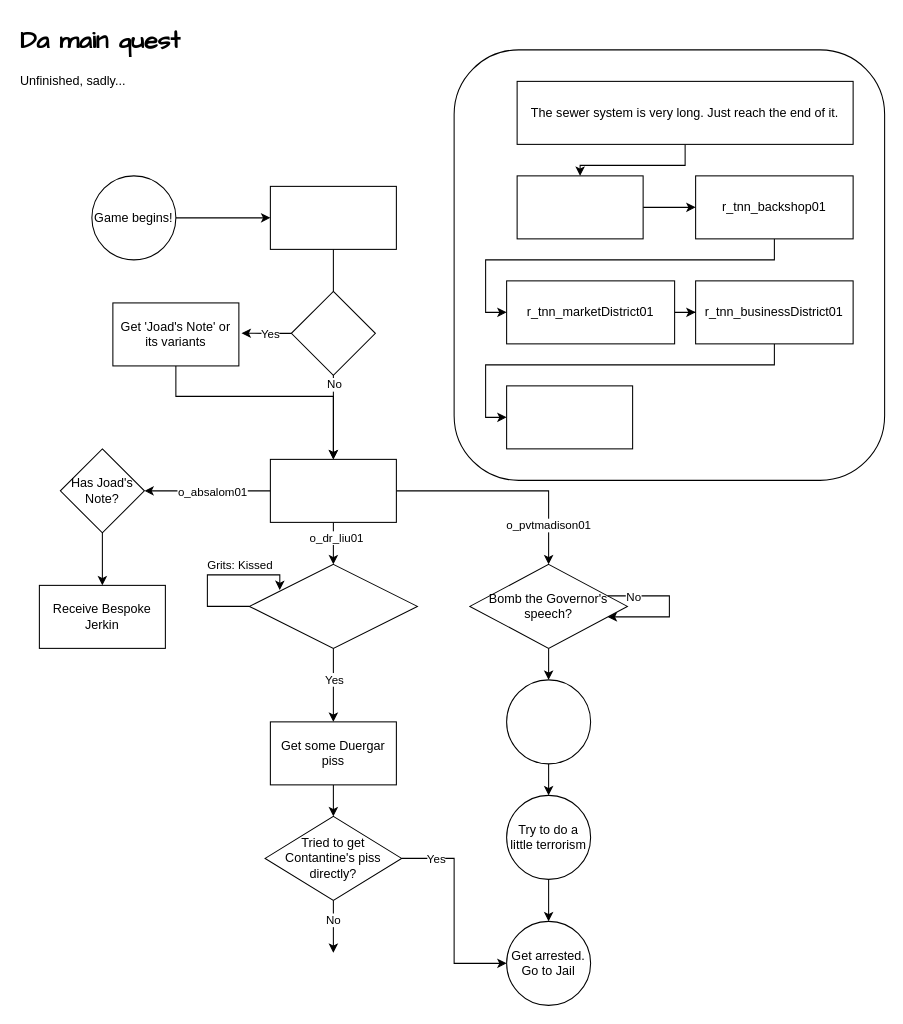
This 903x1024 diagram has some shape labels left out. The centre of each missing label's shape, as x and y in pixels:
Encontered Joad?: (x=332, y=332)
Get Bomb item: (x=548, y=721)
Go to the sewers: (x=332, y=217)
r_sw1_end01: (x=579, y=207)
r_tnn_rebelbase02: (x=569, y=417)
Reach the rebel base: (x=332, y=490)
Started operation: Reverse Dunkirk: (x=332, y=605)
